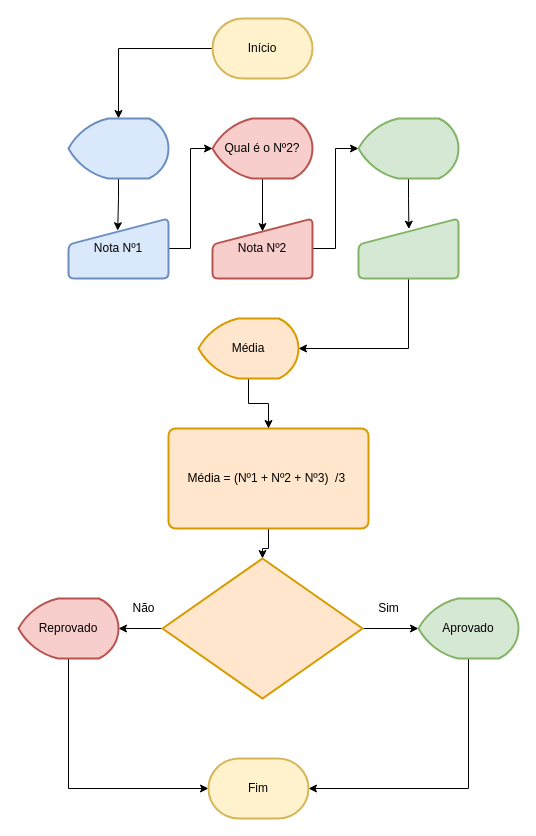
This 536x836 diagram has some shape labels left out. Each missing label, with the box of its shape:
Nota Nº3: (357, 217, 459, 279)
Qual é o Nº1?: (67, 117, 169, 179)
Qual é o Nº3?: (357, 117, 459, 179)
Se média for > 5: (161, 557, 363, 699)
